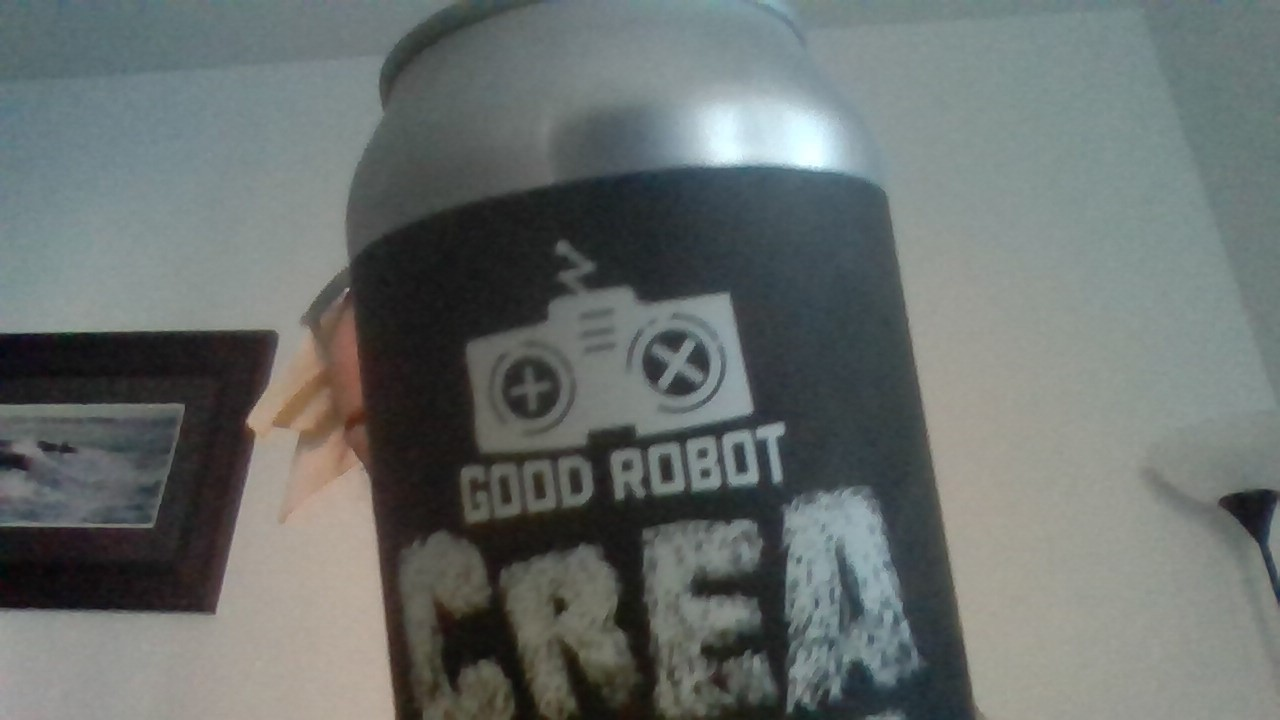Good Robot: (426, 239, 781, 452)
